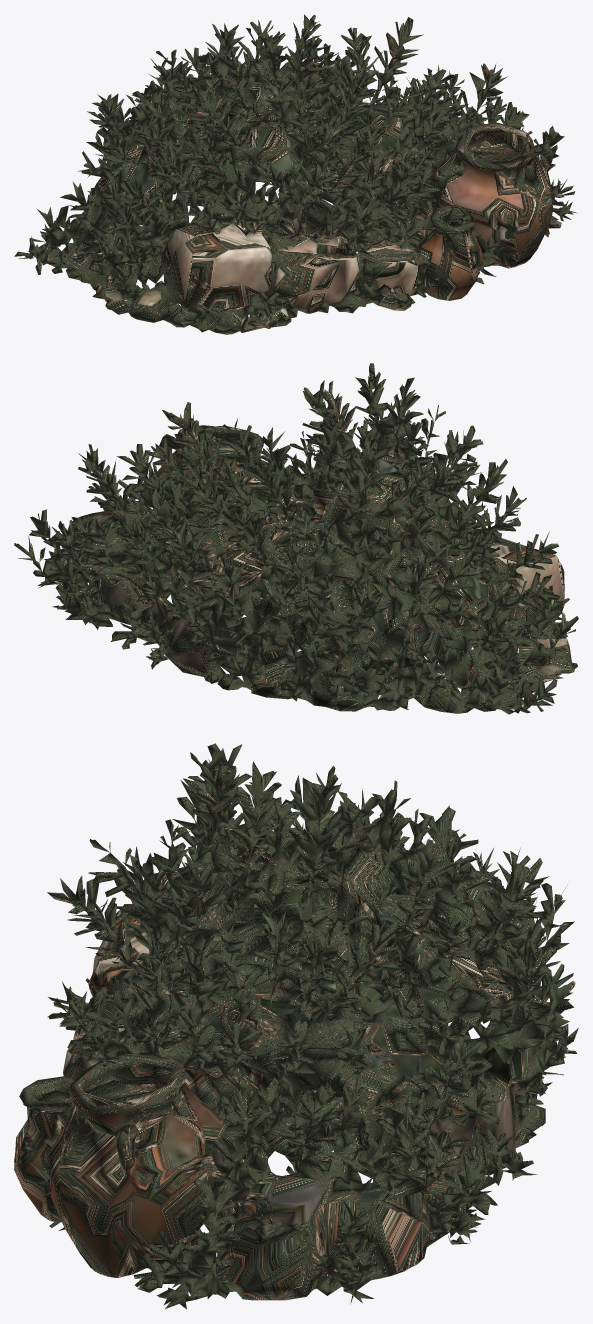
The model's file is olive-wall-cluster-b.glb.
The picture shows the model from 3 angles, top to bottom: view 1: azimuth 30°, elevation 25°; view 2: azimuth 150°, elevation 25°; view 3: azimuth 270°, elevation 25°; orthographic projection. The views are drawn at different scales.
Parts seen in each view (by area): view 1: geometry_0; view 2: geometry_0; view 3: geometry_0.
Boxes of the visible parts, <box> form: geometry_0: <box>14,14,577,334</box>; geometry_0: <box>14,363,578,714</box>; geometry_0: <box>14,743,578,1309</box>.
Bounding box in the file's own units: 2.27 × 1.05 × 1.43.
Materials: 1 (1 with a texture image).
